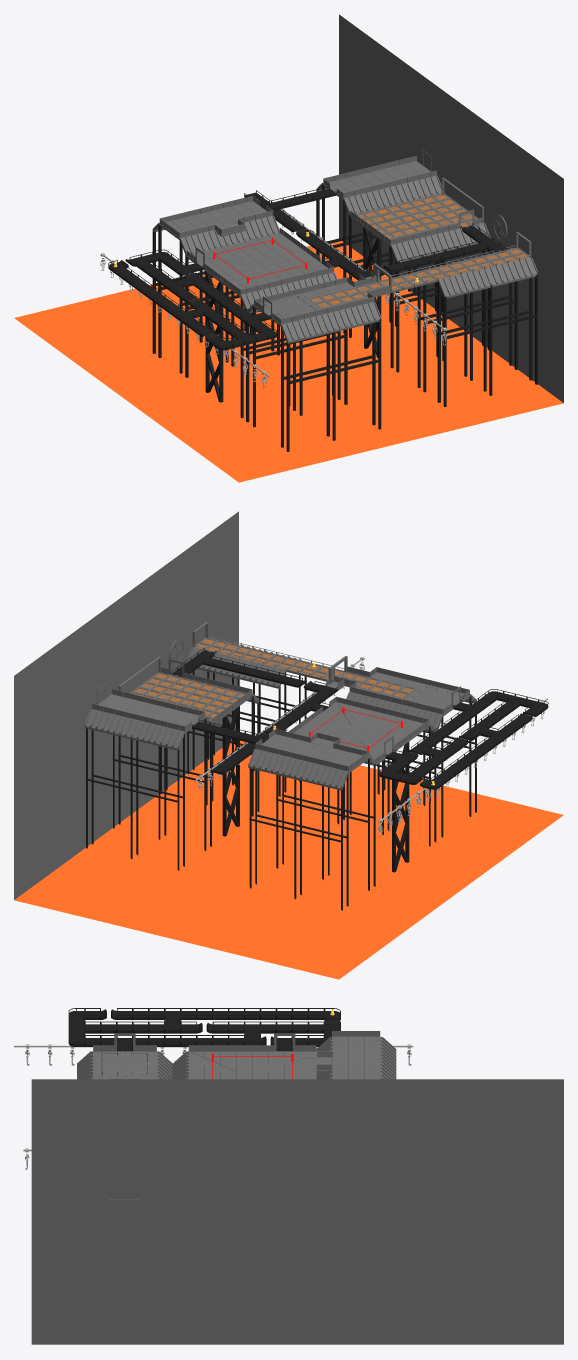
The model's file is Level2 blocking.fbx.
3 views of the same model, one above another, from view 1: azimuth 30°, elevation 25°; view 2: azimuth 150°, elevation 25°; view 3: azimuth 270°, elevation 25° (orthographic). The views are drawn at different scales.
Parts seen in each view (by area): view 1: Floor, Wall, Structure, Area2, Area4, Runway 1, Area1, Area3, Runway 2, Fire, Robots; view 2: Floor, Wall, Structure, Area2, Area4, Runway 1, Area1, Runway 2, Area3, Fire, Robots; view 3: Wall, Runway 1, Area2, Area1, Robots, Area4.
Boxes of the visible parts, box(x1,y1,x2,y2) form: Floor: box(14, 241, 563, 482); Wall: box(339, 14, 563, 402); Structure: box(152, 185, 537, 451); Area2: box(152, 195, 337, 313); Area4: box(316, 149, 490, 262); Runway 1: box(108, 249, 277, 350); Area1: box(247, 263, 391, 343); Area3: box(379, 232, 537, 298); Runway 2: box(244, 186, 506, 280); Fire: box(311, 195, 527, 307); Robots: box(100, 209, 446, 389); Floor: box(14, 740, 563, 979); Wall: box(14, 511, 238, 899); Structure: box(85, 671, 476, 910); Area2: box(248, 696, 436, 790); Area4: box(85, 656, 259, 750); Runway 1: box(379, 689, 548, 789); Area1: box(326, 656, 476, 732); Runway 2: box(170, 647, 337, 774); Area3: box(186, 622, 344, 688); Fire: box(132, 639, 412, 721); Robots: box(194, 657, 548, 837); Wall: box(31, 1079, 563, 1344); Runway 1: box(68, 1008, 340, 1051); Area2: box(172, 1031, 396, 1079); Area1: box(77, 1033, 172, 1079); Robots: box(14, 1044, 413, 1169); Area4: box(220, 1167, 366, 1202).
Bounding box in the file's own units: 168 × 111 × 207.
